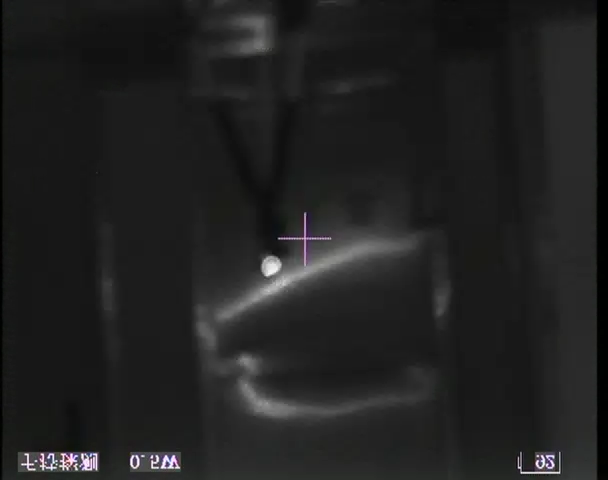my: (260, 253, 284, 280)
